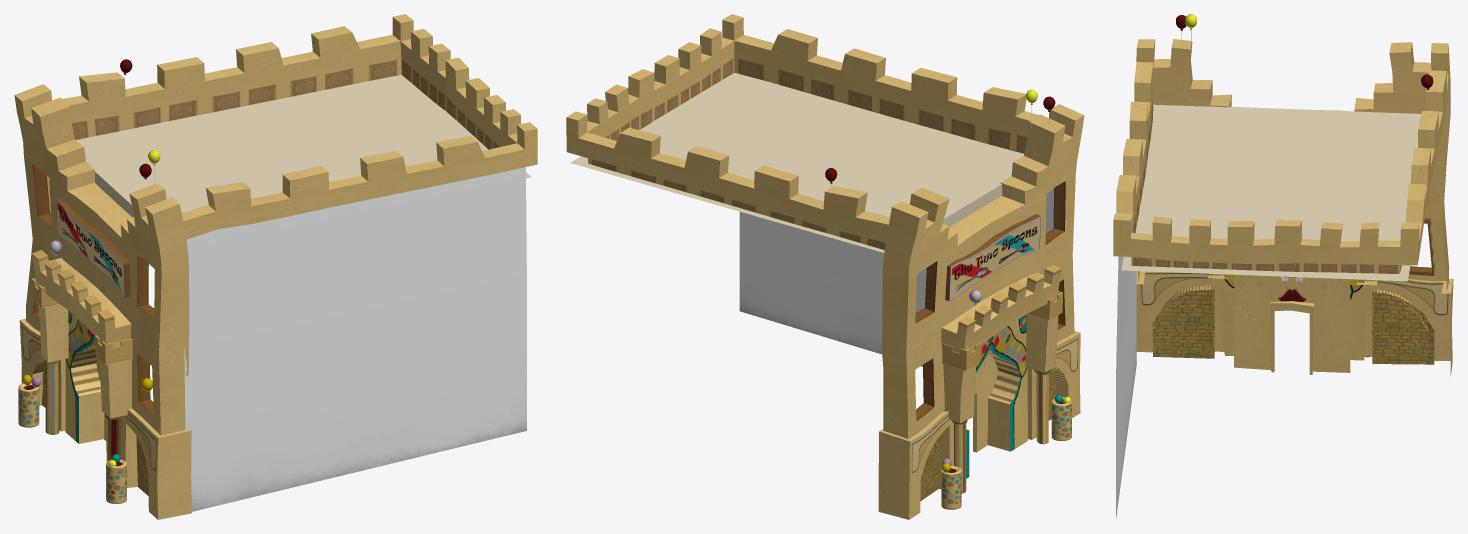
File: Exterior.fbx
The picture shows the model from 3 angles, left to right: view 1: azimuth 30°, elevation 25°; view 2: azimuth 150°, elevation 25°; view 3: azimuth 270°, elevation 25°; orthographic projection. The views are drawn at different scales.
Visible parts, largest first — view 1: Front, WallRight, Sign; view 2: Front, WallRight, Sign; view 3: Front, WallRight.
Part boxes in pixels (x1,y1,x2,y2): Front: (14, 14, 537, 519); WallRight: (184, 167, 526, 511); Sign: (56, 197, 130, 297); Front: (566, 14, 1084, 519); WallRight: (739, 188, 1053, 366); Sign: (945, 214, 1040, 300); Front: (1113, 14, 1453, 376); WallRight: (1116, 256, 1136, 518).
Bounding box in the file's own units: 16.33 × 13.16 × 11.63.
